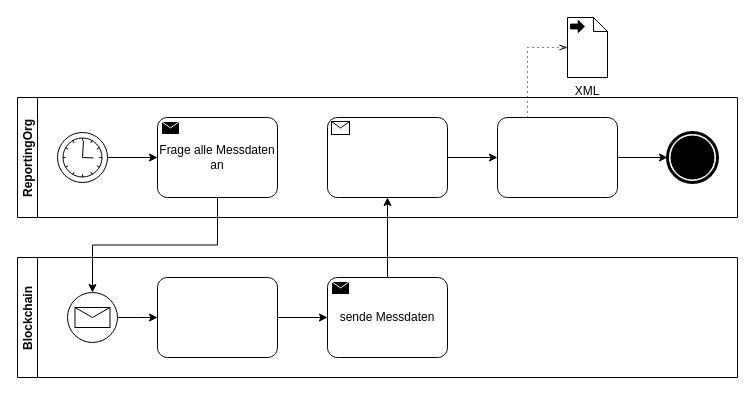
This 755x395 diagram has some shape labels left out. Here are the shapes that lost their labels. From the top down, the centre of each, then its label:
At (x=387, y=157): "Erhalte Daten".
At (x=557, y=157): "Erstelle Bericht".
At (x=217, y=317): "sammle Messdaten".
